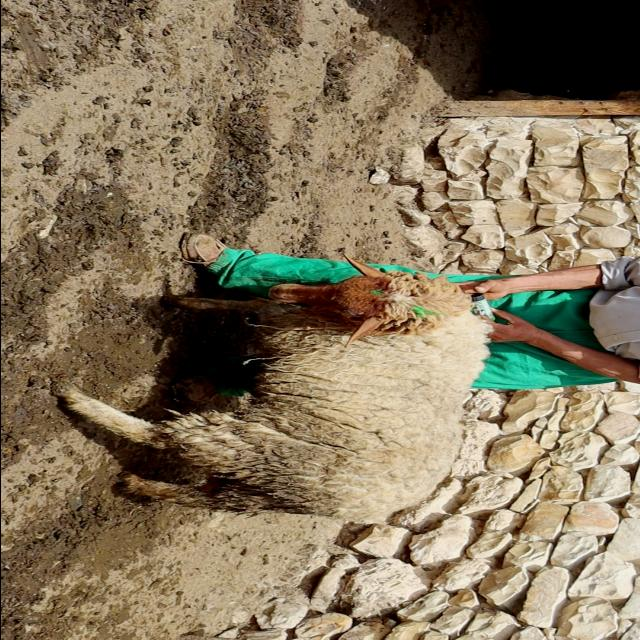Score_2: (62, 258, 488, 524)
